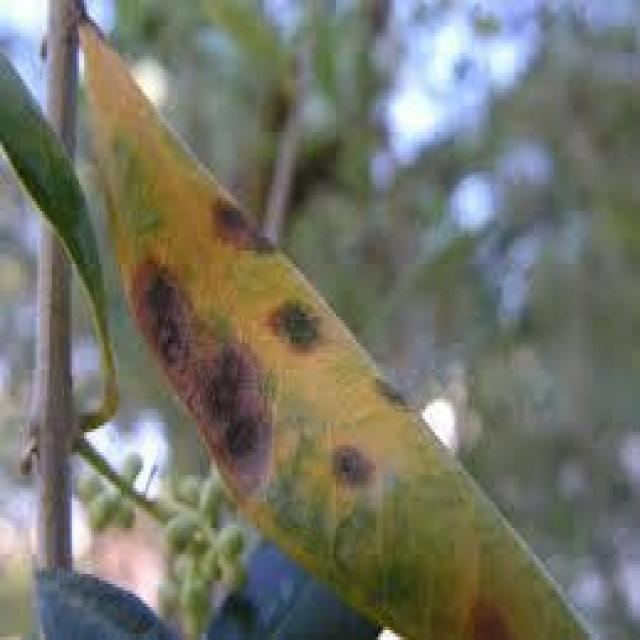OlivePeacockSpot: (79, 16, 593, 634)
